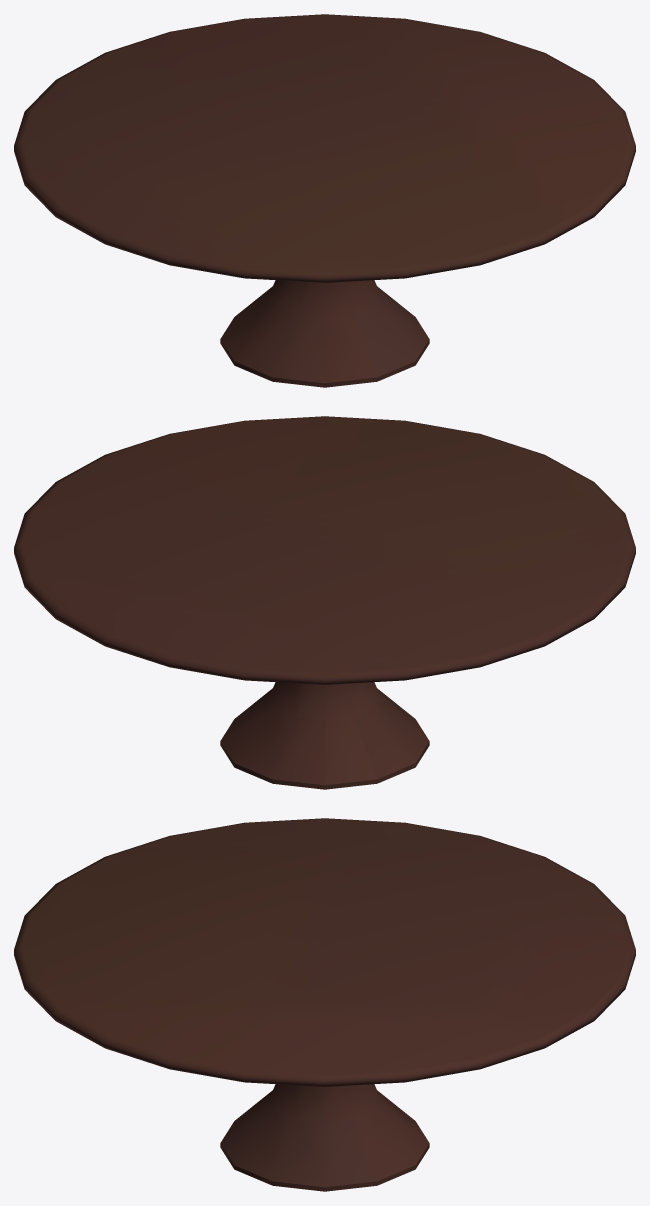
The model's file is mesa-redonda.glb.
3 renders of one model, top to bottom at view 1: azimuth 30°, elevation 25°; view 2: azimuth 150°, elevation 25°; view 3: azimuth 270°, elevation 25°, orthographic.
Parts seen in each view (by area): view 1: Table_large_circular; view 2: Table_large_circular; view 3: Table_large_circular.
Part boxes in pixels (<box>): Table_large_circular: <box>14,14,635,387</box>; Table_large_circular: <box>14,416,635,789</box>; Table_large_circular: <box>14,818,635,1191</box>.
Size of the model in its own units: 2.02 by 0.72 by 2.02.
Materials: 1 (1 with a texture image).
